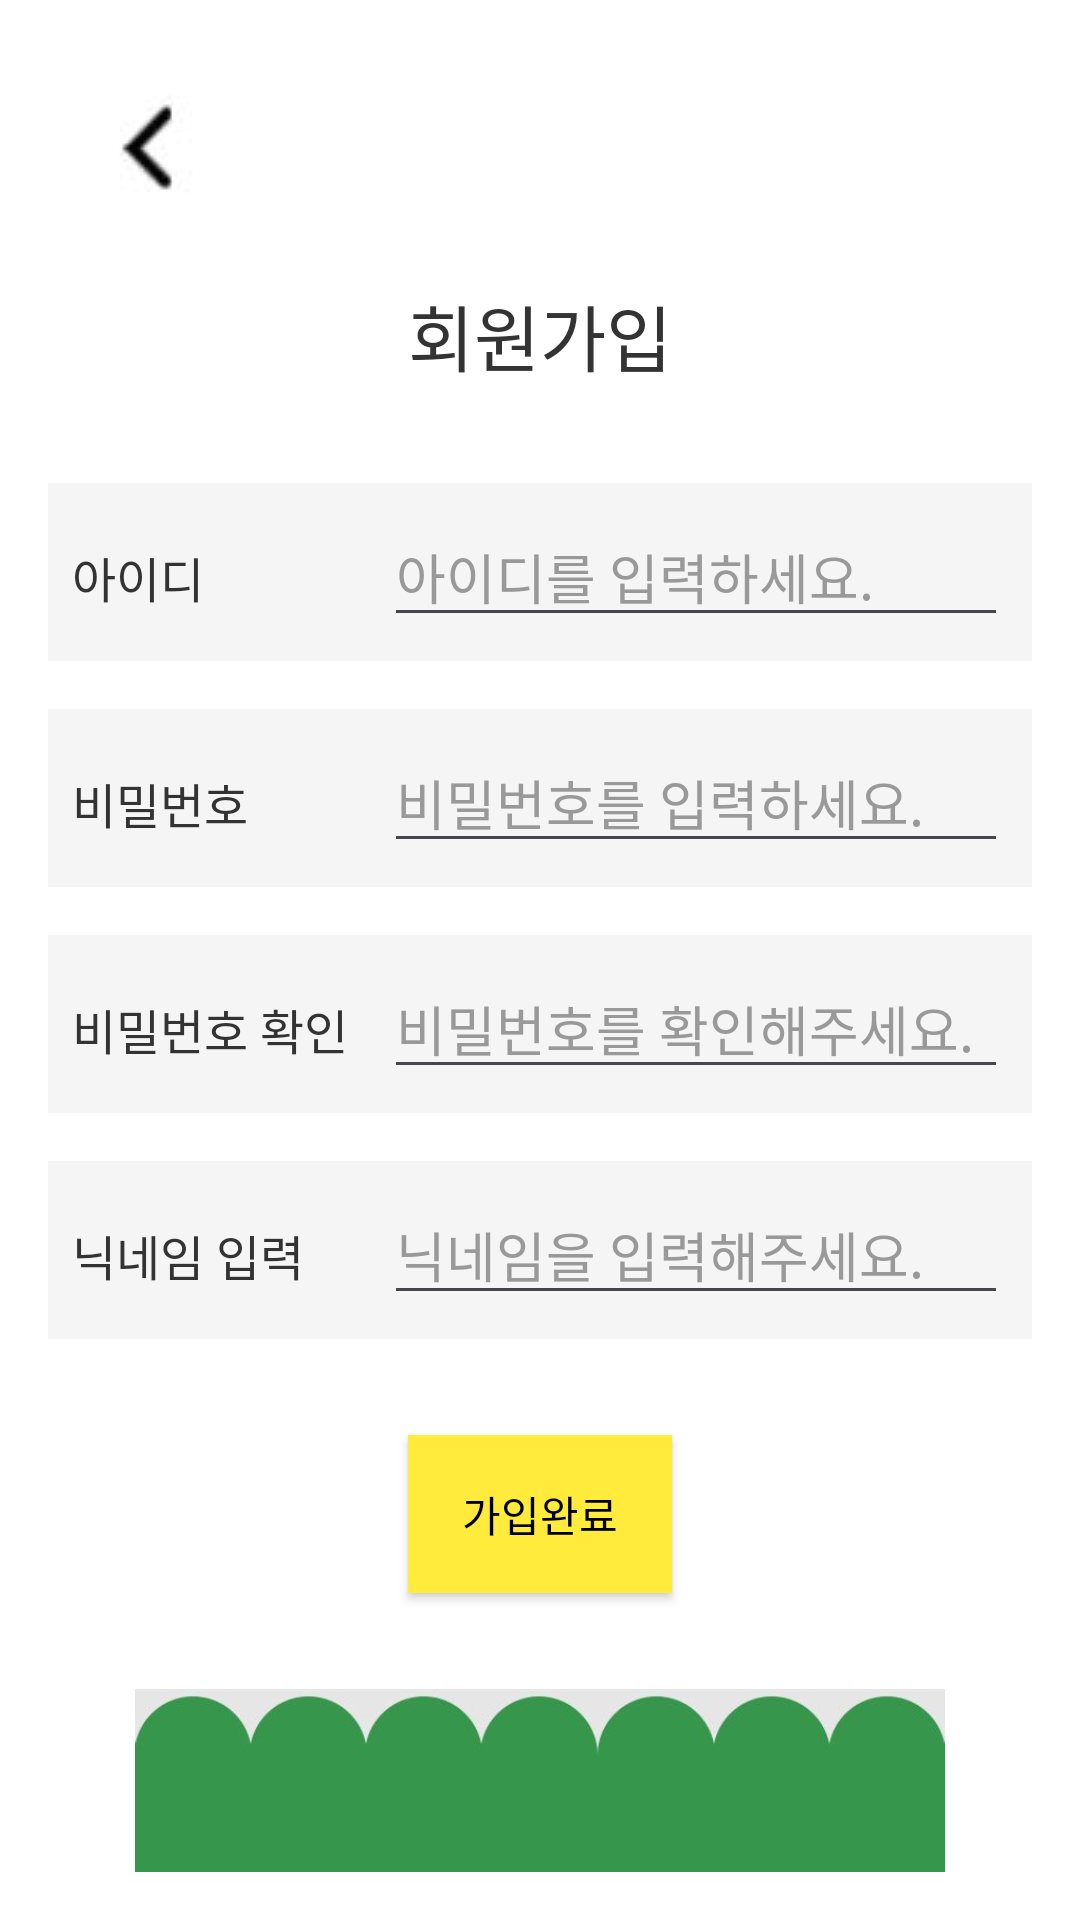

Named icons in this screenshot (1080 x 1920) and their bounding boxes, bbox=(x1, y1, x2, y2):
뒤로가기: bbox=(122, 104, 172, 190)
